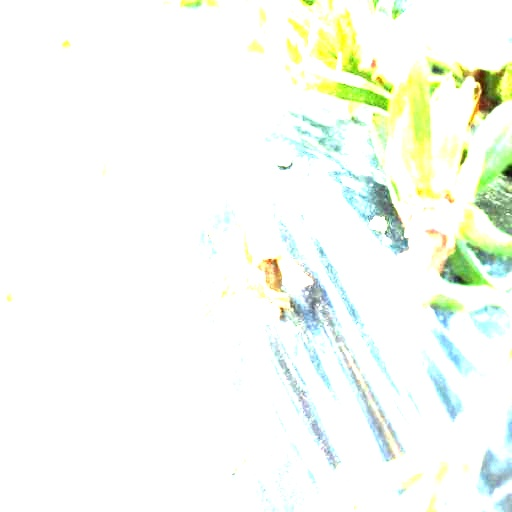Gray Mold: (193, 208, 313, 325), (371, 181, 464, 323)
